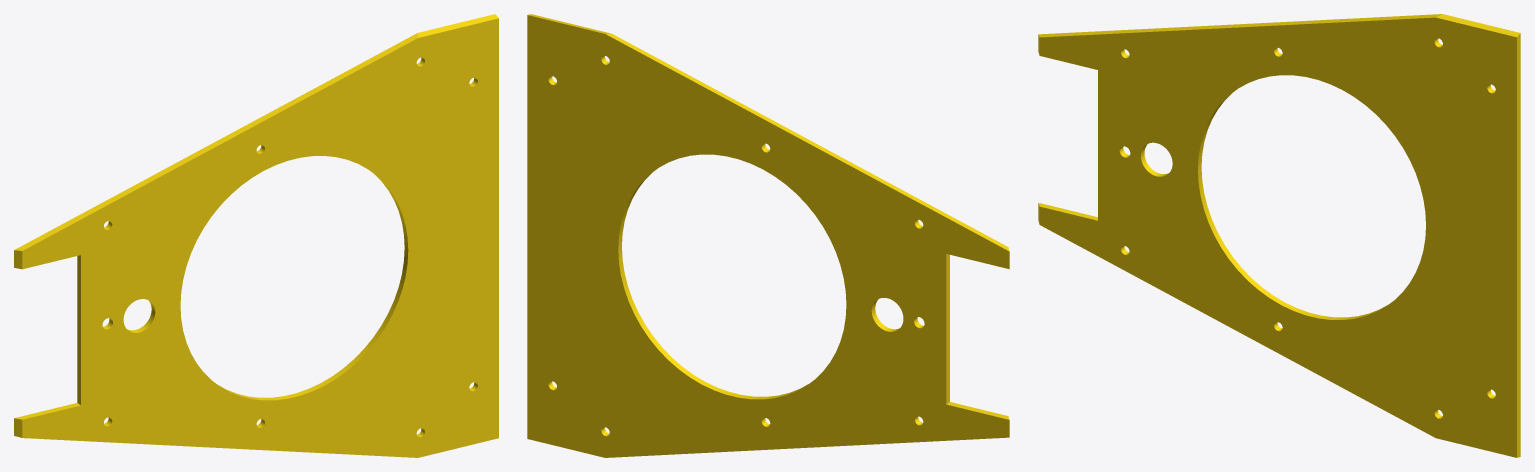
3 renders of one model, left to right at view 1: azimuth 30°, elevation 25°; view 2: azimuth 150°, elevation 25°; view 3: azimuth 330°, elevation 25°, orthographic.
Parts seen in each view (by area): view 1: mesh2319, mesh2323, mesh2332, mesh2330; view 2: mesh2320, mesh2323, mesh2332, mesh2330; view 3: mesh2319, mesh2322, mesh2323, mesh2332.
Part boxes in pixels (x1,y1,x2,y2): mesh2319: (22, 18, 498, 457); mesh2323: (14, 33, 417, 250); mesh2332: (218, 174, 408, 400); mesh2330: (77, 255, 80, 404); mesh2320: (527, 15, 1009, 457); mesh2323: (606, 33, 1009, 251); mesh2332: (618, 172, 808, 399); mesh2330: (946, 254, 949, 403); mesh2319: (1039, 17, 1516, 457); mesh2322: (1517, 33, 1520, 457); mesh2323: (1038, 14, 1441, 37); mesh2332: (1198, 93, 1387, 319).
Size of the model in its own units: 0.2282 by 0.1918 by 0.003.
